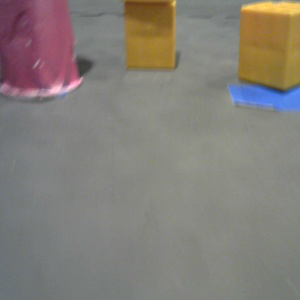middle: (1, 1, 83, 99)
